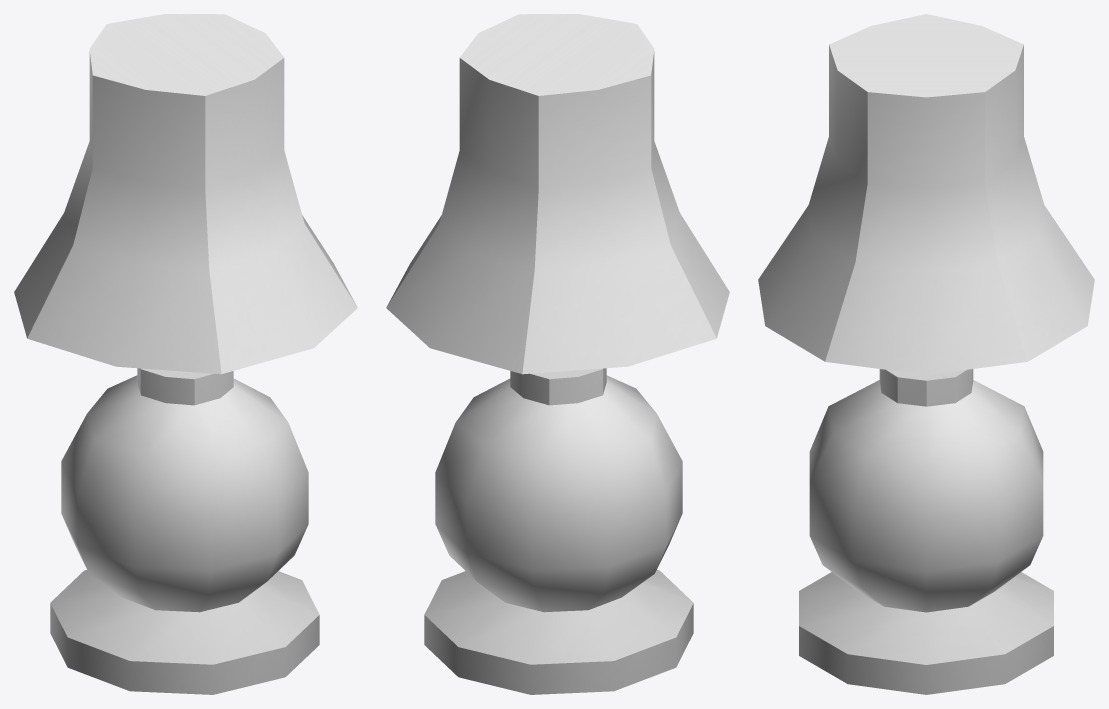
File: lamp.fbx
3 views of the same model, side by side, from view 1: azimuth 30°, elevation 25°; view 2: azimuth 150°, elevation 25°; view 3: azimuth 270°, elevation 25° (orthographic).
Visible parts, largest first — view 1: pCylinder1; view 2: pCylinder1; view 3: pCylinder1.
Boxes of the visible parts, x1,y1,x2,y2 form: pCylinder1: (14,14,357,694); pCylinder1: (386,14,729,694); pCylinder1: (758,14,1094,694).
Bounding box in the file's own units: 2.62 × 4.77 × 2.51.
